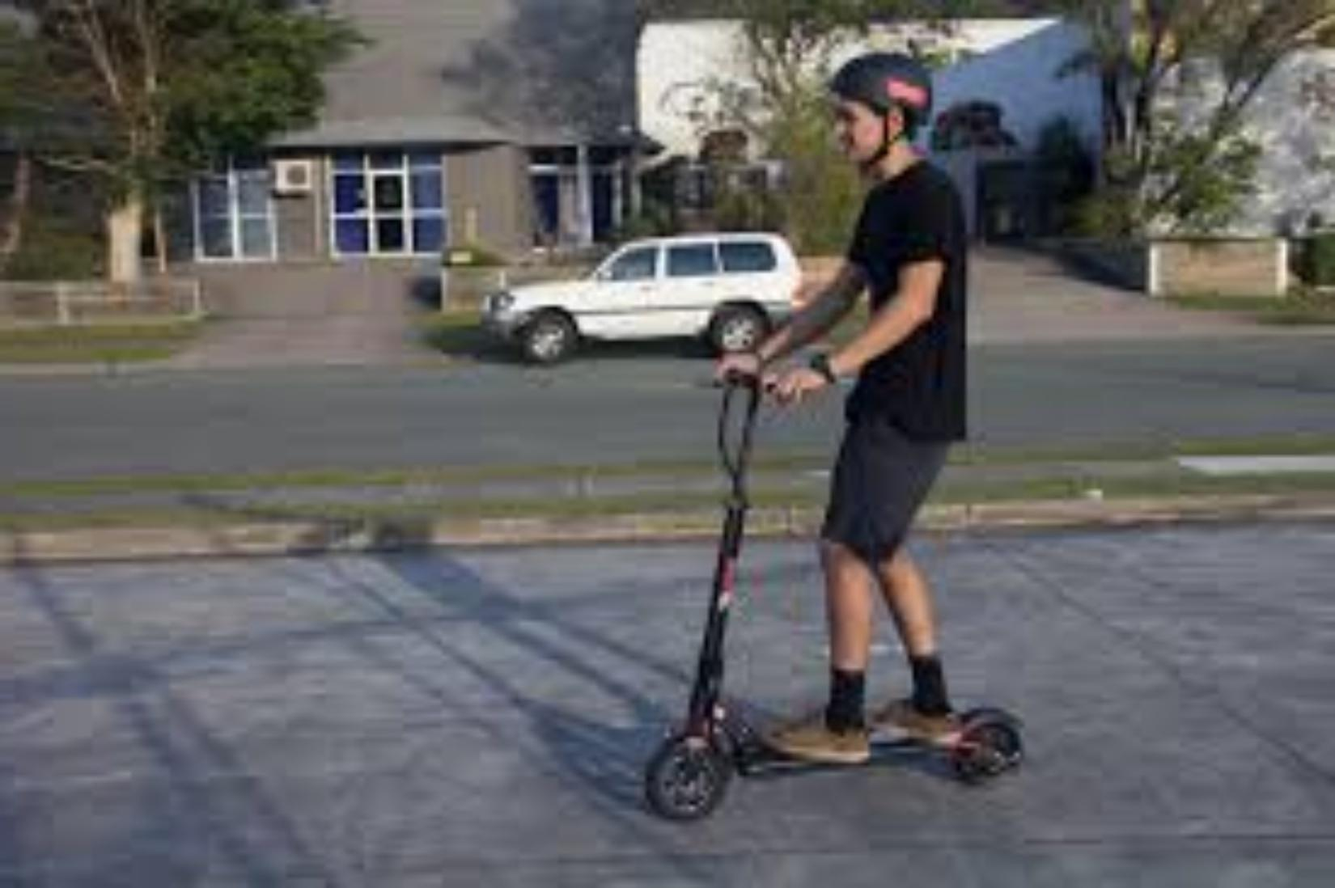helmet: (824, 38, 943, 172)
human: (723, 52, 960, 759)
kickboard: (647, 725, 1027, 826)
